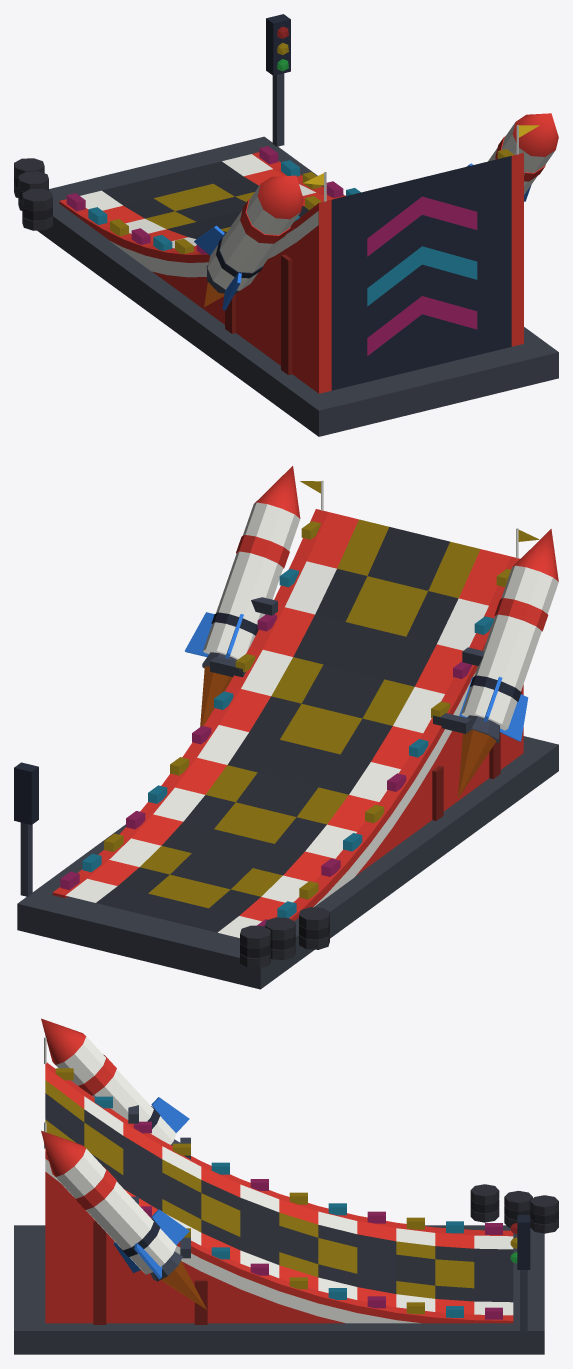
Rendered from launch-ramp.glb.
3 renders of one model, top to bottom at view 1: azimuth 30°, elevation 25°; view 2: azimuth 150°, elevation 25°; view 3: azimuth 270°, elevation 25°, orthographic. The views are drawn at different scales.
Parts seen in each view (by area): view 1: launch-ramp; view 2: launch-ramp; view 3: launch-ramp.
Part boxes in pixels (box(x1,y1,x2,y2)): launch-ramp: box(14, 14, 558, 436); launch-ramp: box(14, 466, 558, 989); launch-ramp: box(14, 1018, 558, 1354).
Size of the model in its own units: 12.85 by 9.64 by 20.95.
2 materials, 2 textured.
